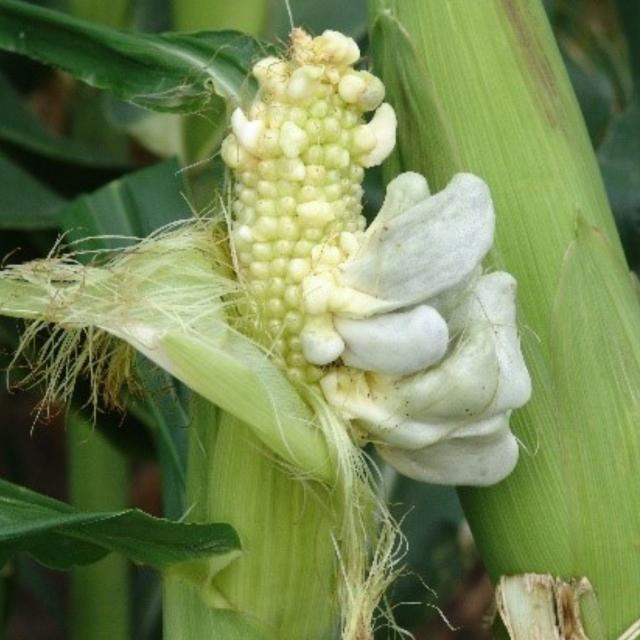Leaf_Scald: (109, 24, 570, 554)
